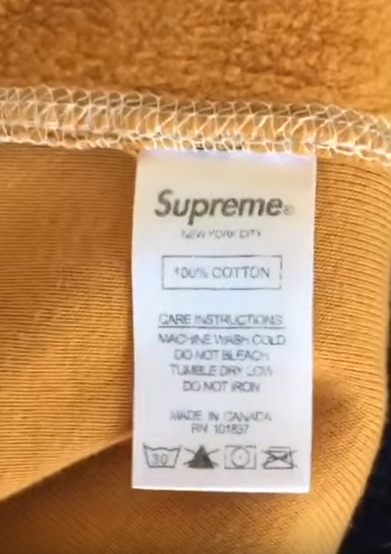do_not_bleach: (181, 443, 221, 473)
do_not_iron: (261, 444, 299, 473)
